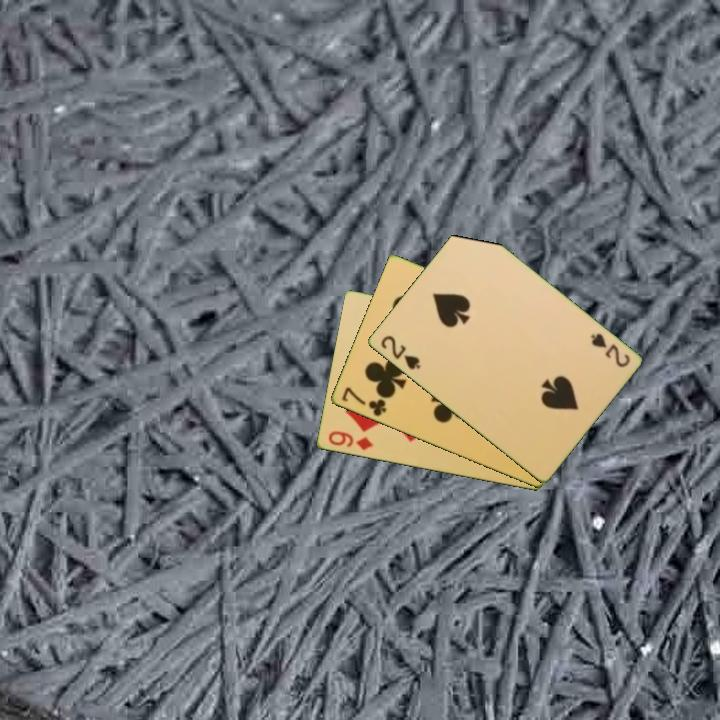2s: (377, 332, 424, 373), (586, 330, 633, 370)
7c: (338, 383, 389, 419)
9d: (324, 428, 376, 454)
